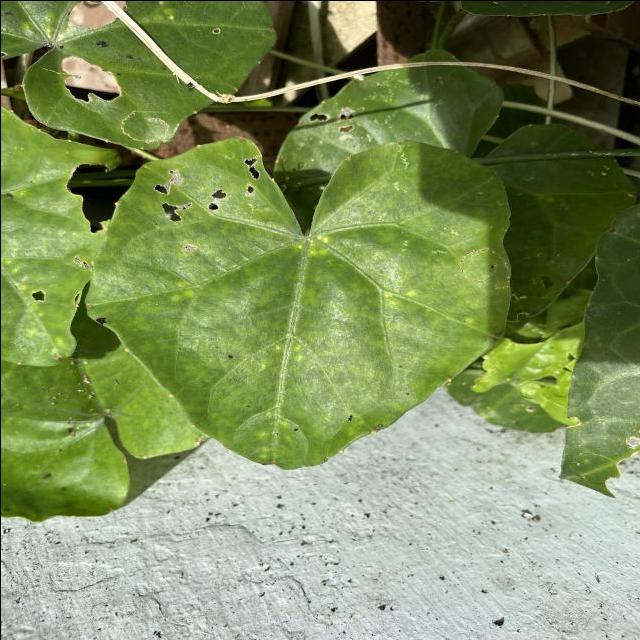Coccinia grandis: (84, 132, 514, 472)
